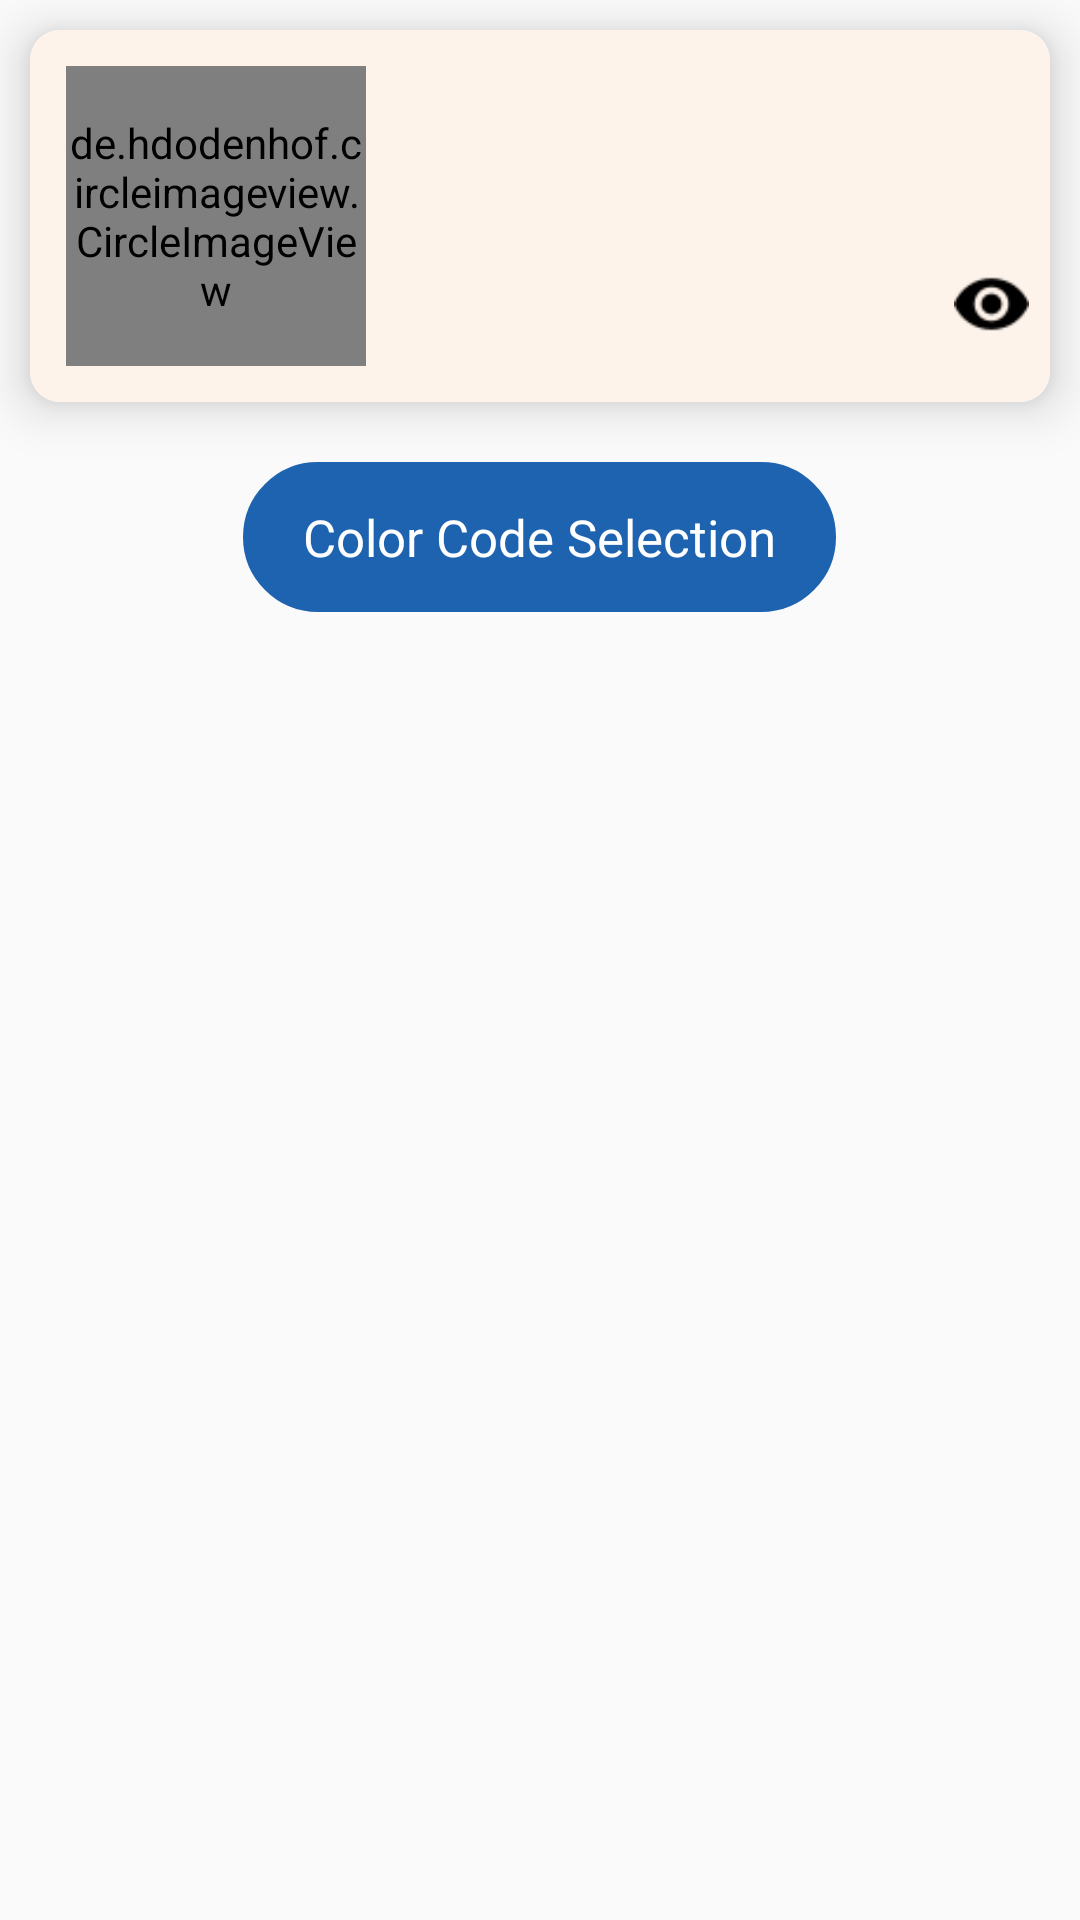

Named icons in this screenshot (1080w x 1920h) and their centers, [x,y]:
view: [991,304]
